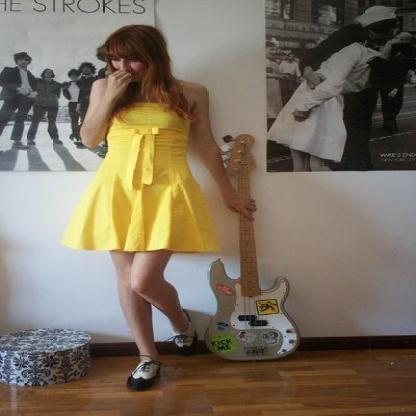dress: (59, 101, 235, 253)
shoe: (127, 328, 208, 391)
